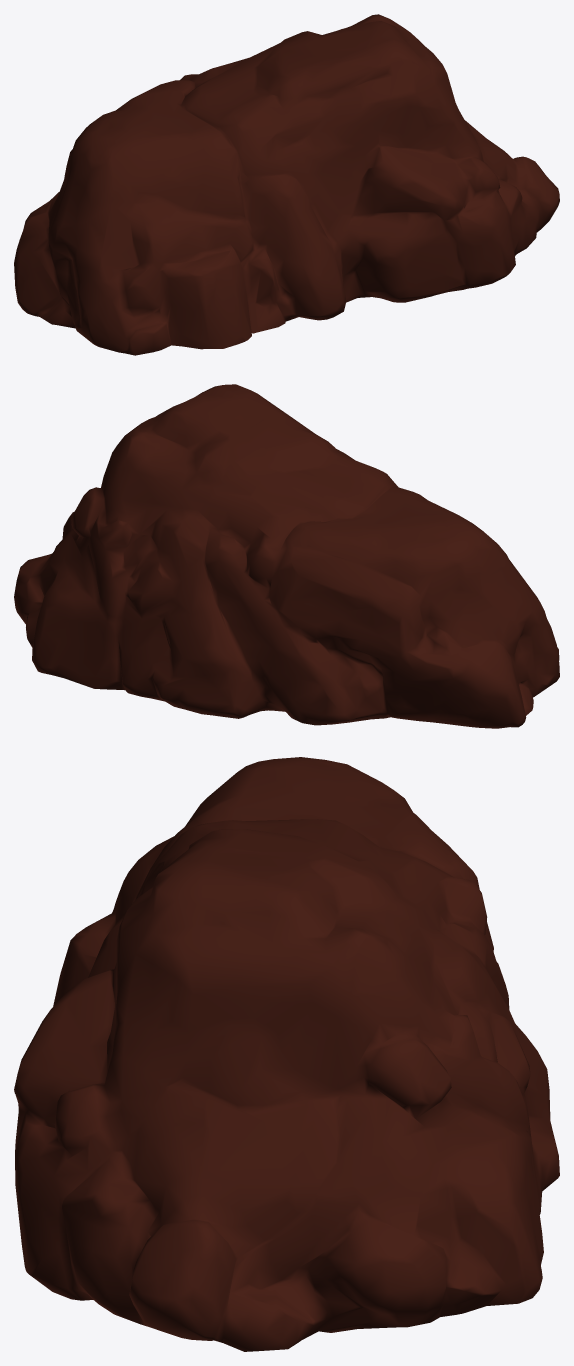
Rendered from Nature_Medium_Rock1.FBX.
3 renders of one model, top to bottom at view 1: azimuth 30°, elevation 25°; view 2: azimuth 150°, elevation 25°; view 3: azimuth 270°, elevation 25°, orthographic. The views are drawn at different scales.
Visible parts, largest first — view 1: Rocks_Medium1; view 2: Rocks_Medium1; view 3: Rocks_Medium1.
Part boxes in pixels (bbox=[...]): Rocks_Medium1: bbox=[14, 14, 559, 355]; Rocks_Medium1: bbox=[14, 384, 559, 728]; Rocks_Medium1: bbox=[14, 757, 559, 1351].
Size of the model in its own units: 754 by 324 by 442.
